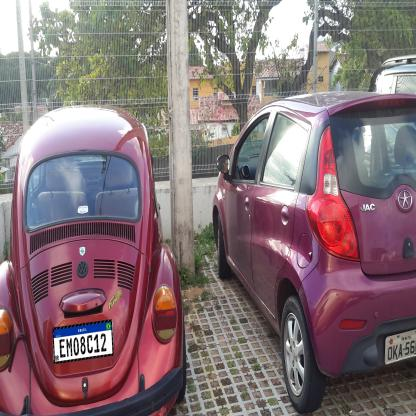PlacaM: (52, 319, 114, 364)
